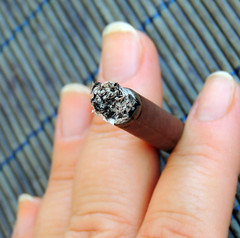cigarette: (87, 77, 188, 155)
